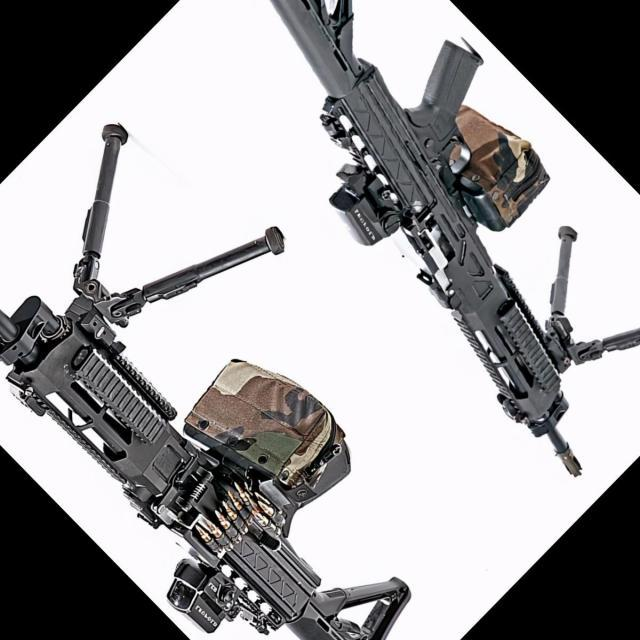weapon: (0, 123, 414, 640), (268, 0, 640, 478)
